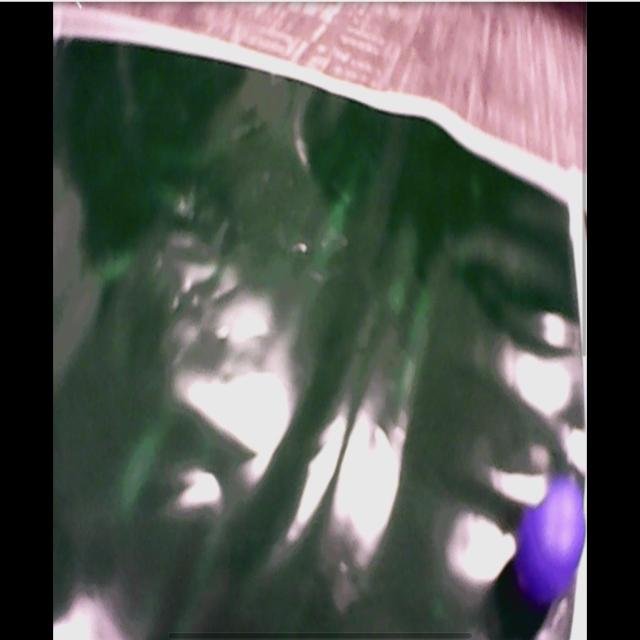ball: (515, 475, 586, 601)
